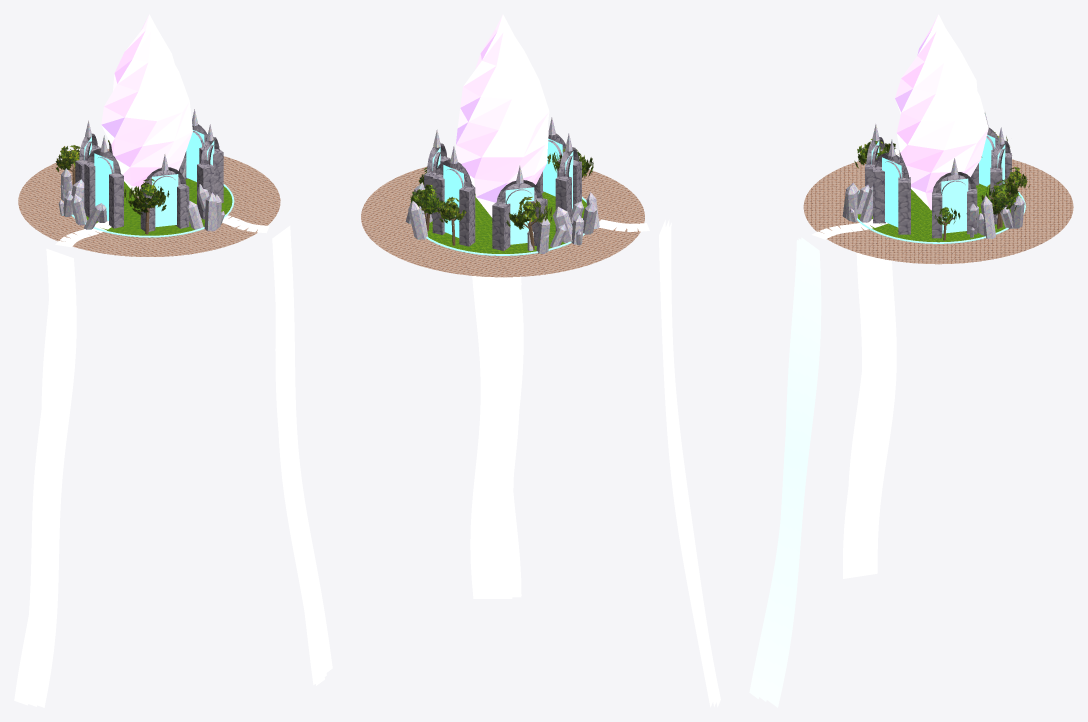
Rendered from GARDEN_NORTH.glb.
3 renders of one model, left to right at view 1: azimuth 30°, elevation 25°; view 2: azimuth 150°, elevation 25°; view 3: azimuth 270°, elevation 25°, orthographic. The views are drawn at different scales.
Visible parts, largest first — view 1: GD_North_Body.001, GD_North_Fall200.001, GD_North_Fall300.001, GD_North_Crystals.001, GD_North_Trees.001; view 2: GD_North_Body.001, GD_North_Fall300.001, GD_North_Fall200.001, GD_North_Crystals.001, GD_North_Trees.001; view 3: GD_North_Body.001, GD_North_Fall300.001, GD_North_Fall200.001, GD_North_Crystals.001, GD_North_Trees.001.
Part boxes in pixels (x1,y1,x2,y2): GD_North_Body.001: (18, 14, 280, 256); GD_North_Fall200.001: (14, 248, 76, 707); GD_North_Fall300.001: (272, 225, 332, 685); GD_North_Crystals.001: (58, 161, 224, 231); GD_North_Trees.001: (55, 140, 169, 234); GD_North_Body.001: (361, 14, 649, 277); GD_North_Fall300.001: (470, 276, 523, 598); GD_North_Fall200.001: (659, 219, 720, 707); GD_North_Crystals.001: (405, 182, 599, 253); GD_North_Trees.001: (410, 147, 593, 249); GD_North_Body.001: (803, 14, 1073, 264); GD_North_Fall300.001: (749, 237, 821, 707); GD_North_Fall200.001: (843, 147, 896, 578); GD_North_Crystals.001: (842, 182, 1024, 238); GD_North_Trees.001: (854, 131, 1029, 240).
Size of the model in its own units: 40.46 by 85.92 by 39.38.
12 materials, 6 textured.
